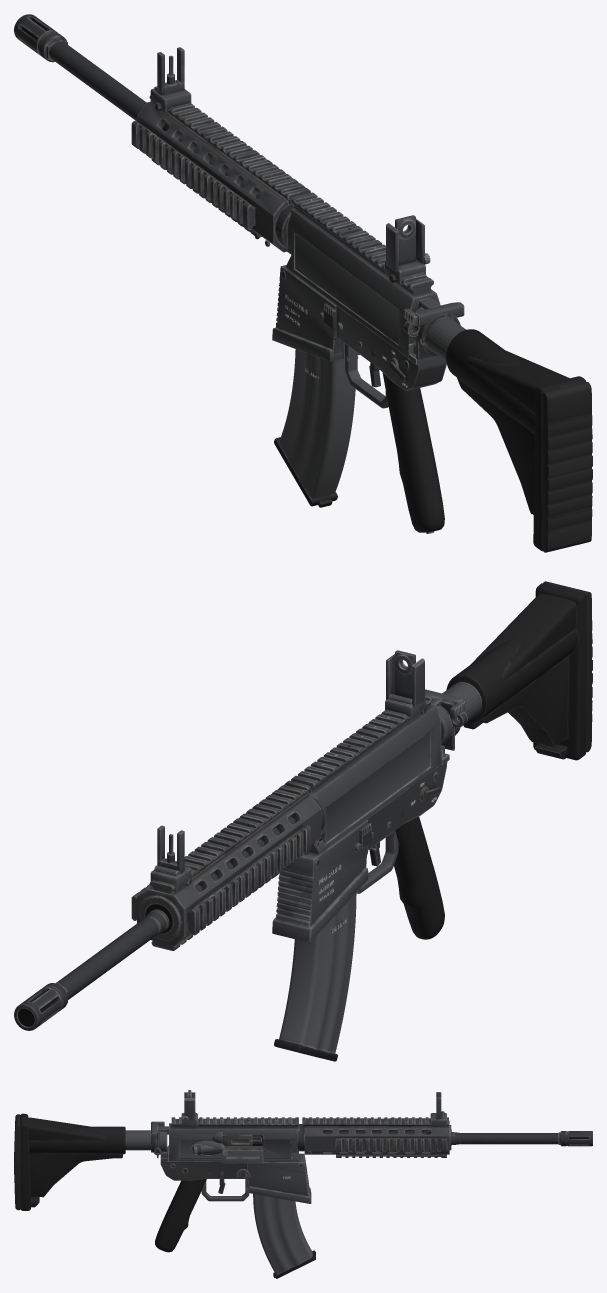
File: m4a4_built.glb
The picture shows the model from 3 angles, top to bottom: view 1: azimuth 30°, elevation 25°; view 2: azimuth 150°, elevation 25°; view 3: azimuth 270°, elevation 25°; orthographic projection. The views are drawn at different scales.
Visible parts, largest first — view 1: Body, Magazine, Sights; view 2: Body, Magazine, Sights; view 3: Body, Magazine, Sights.
Part boxes in pixels (box(x1,y1,x2,y2)): Body: box(14, 14, 592, 552); Magazine: box(274, 349, 355, 507); Sights: box(157, 47, 430, 271); Body: box(14, 581, 592, 1030); Magazine: box(274, 892, 356, 1061); Sights: box(157, 650, 424, 873); Body: box(14, 1111, 592, 1252); Magazine: box(253, 1194, 315, 1278); Sights: box(182, 1090, 441, 1121).
Bounding box in the file's own units: 0.057 × 0.2971 × 0.845.
Materials: 1 (1 with a texture image).
